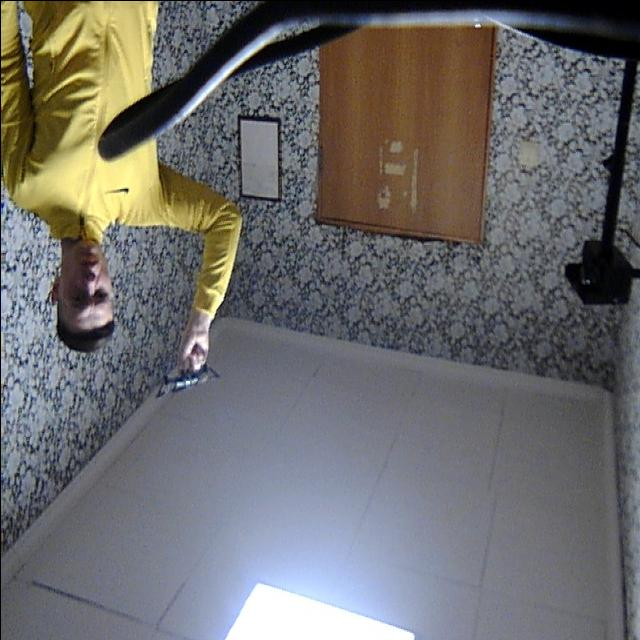drone: (147, 362, 220, 402)
